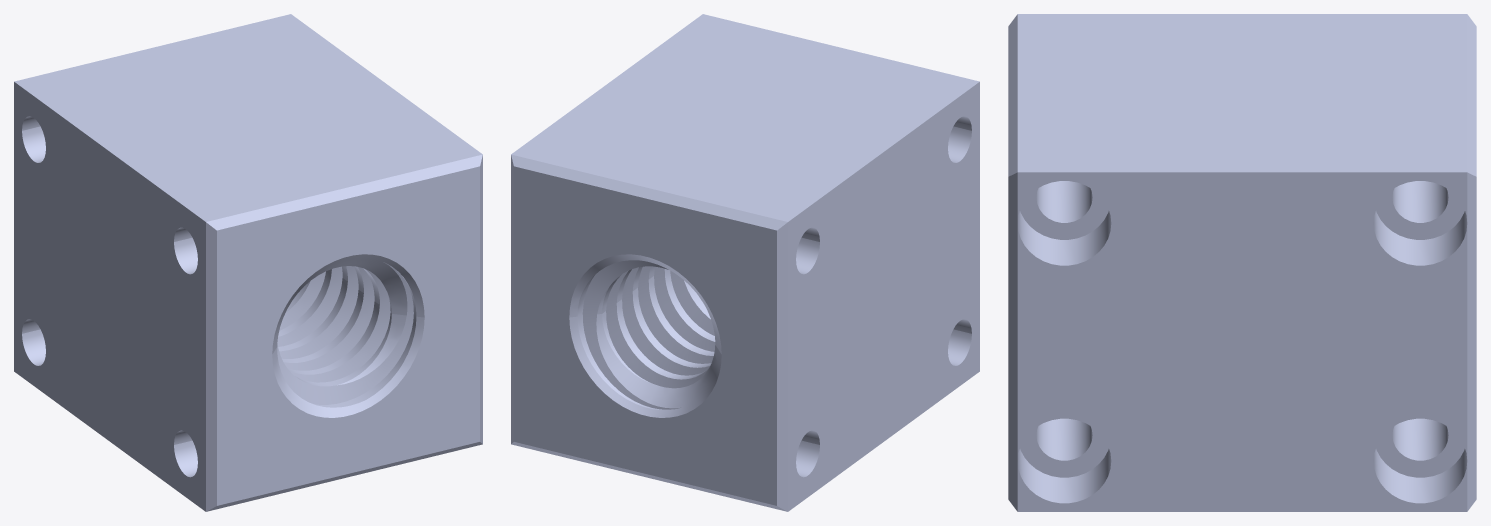
3 renders of one model, left to right at view 1: azimuth 30°, elevation 25°; view 2: azimuth 150°, elevation 25°; view 3: azimuth 270°, elevation 25°, orthographic. The views are drawn at different scales.
Bounding box in the file's own units: 40 × 40 × 50.
